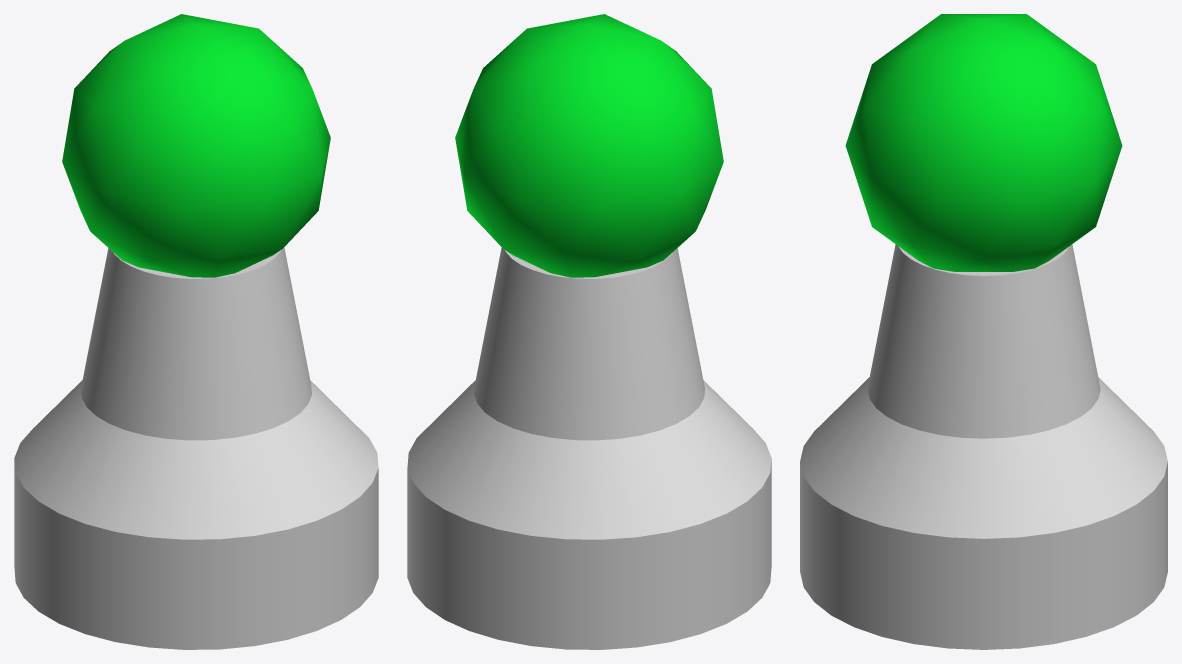
The model's file is Follower.fbx.
The picture shows the model from 3 angles, left to right: view 1: azimuth 30°, elevation 25°; view 2: azimuth 150°, elevation 25°; view 3: azimuth 270°, elevation 25°; orthographic projection.
Visible parts, largest first — view 1: Cylinder; view 2: Cylinder; view 3: Cylinder.
Boxes of the visible parts, x1,y1,x2,y2 form: Cylinder: (14, 14, 378, 649); Cylinder: (407, 14, 771, 649); Cylinder: (800, 14, 1167, 649).
Bounding box in the file's own units: 80 × 133 × 80.
